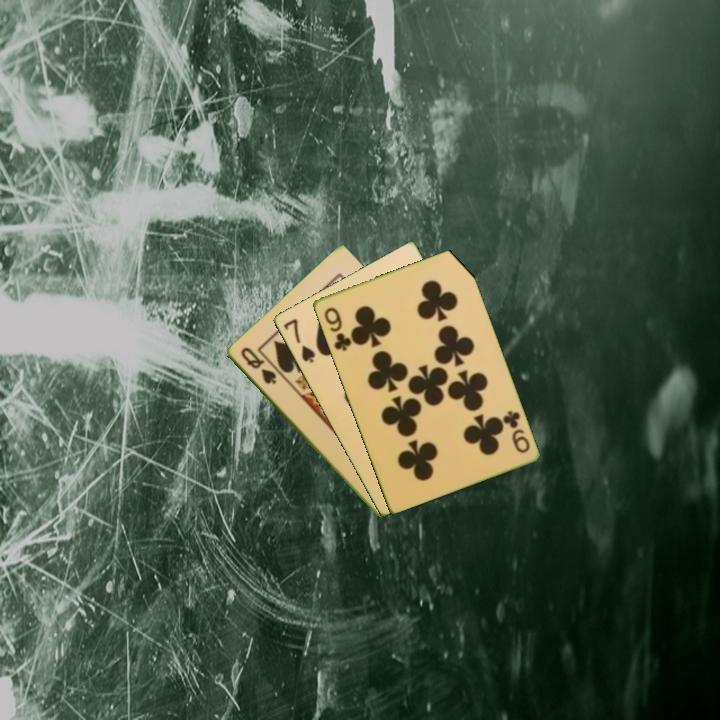7s: (280, 315, 318, 366)
9c: (320, 303, 354, 354), (499, 407, 532, 456)
Qs: (237, 343, 279, 387)
